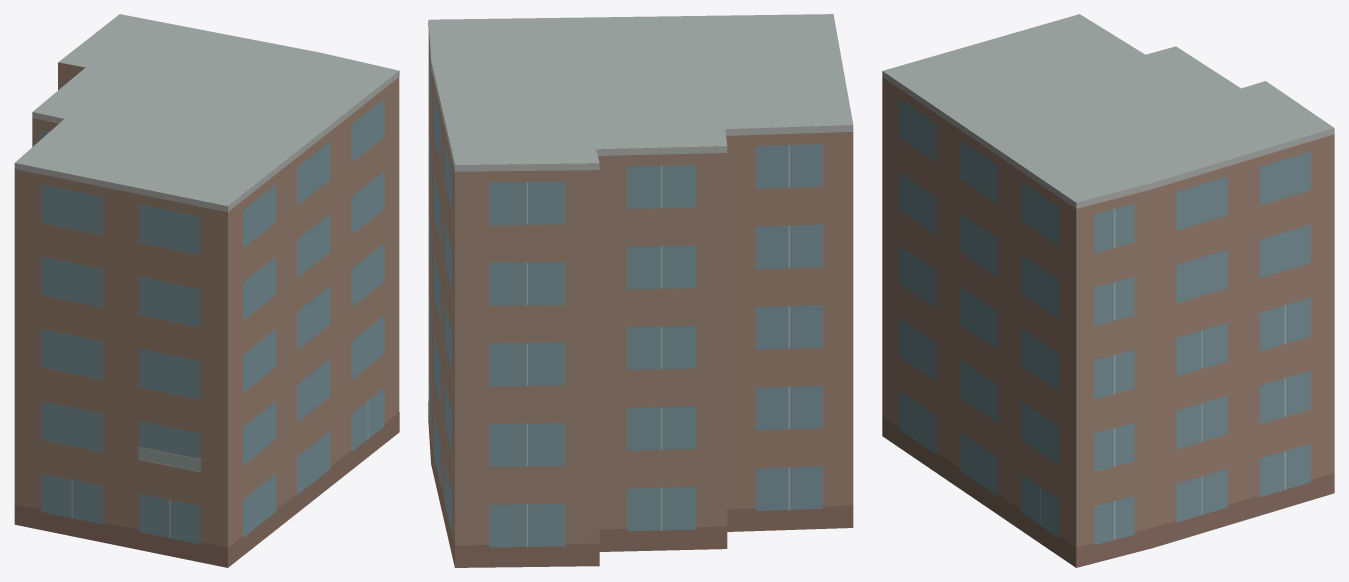
Rendered from survey-upis-32846341.glb.
3 renders of one model, left to right at view 1: azimuth 30°, elevation 25°; view 2: azimuth 150°, elevation 25°; view 3: azimuth 270°, elevation 25°, orthographic. The views are drawn at different scales.
Visible parts, largest first — view 1: survey-upis-32846341.tmp; view 2: survey-upis-32846341.tmp; view 3: survey-upis-32846341.tmp.
Boxes of the visible parts, x1,y1,x2,y2 form: survey-upis-32846341.tmp: [14, 14, 399, 567]; survey-upis-32846341.tmp: [428, 14, 853, 567]; survey-upis-32846341.tmp: [882, 14, 1334, 567].
Size of the model in its own units: 16.14 by 14.55 by 16.34.
